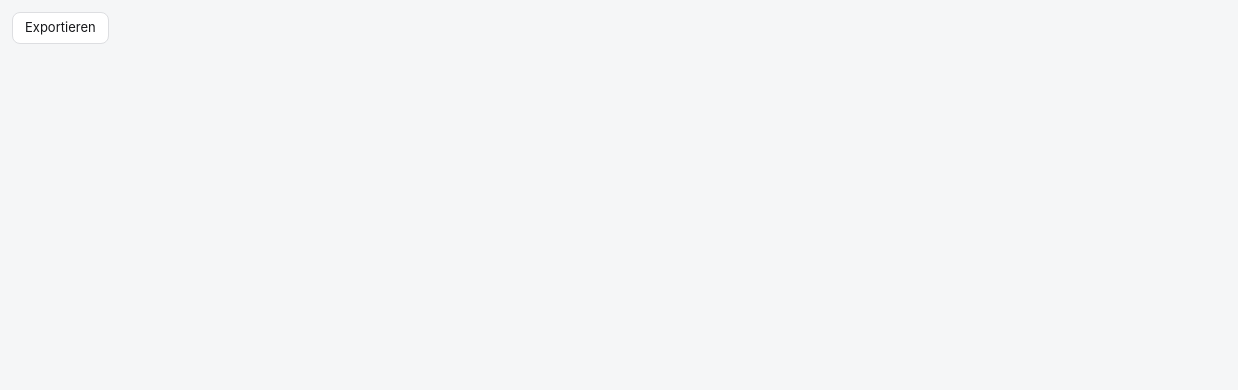
it: ReportExportMenu › Vertragsverletzung im JSON-Export ist ein Fehler, kein Download
Press ArrowDown in the button with test id "report-export-trigger", box [12, 12, 109, 44]
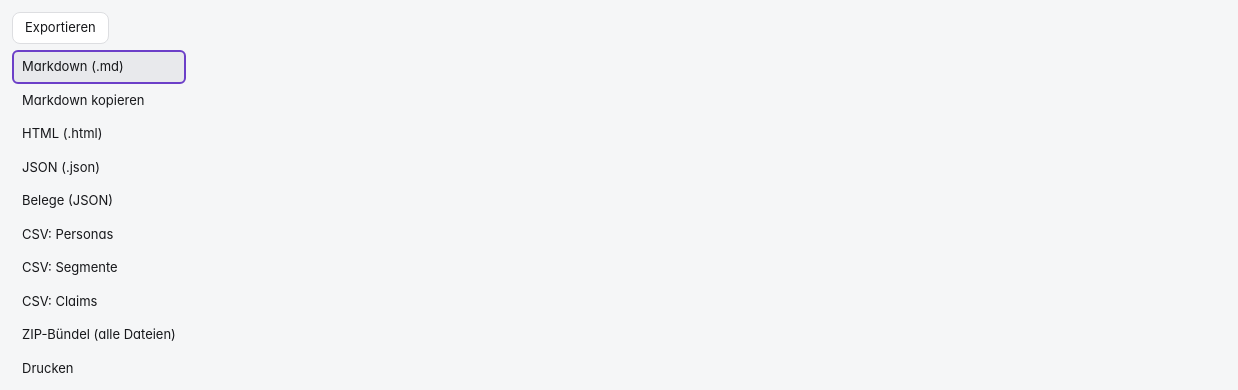
Click the menu item "JSON (.json)": [61, 166] box [22, 158, 100, 174]
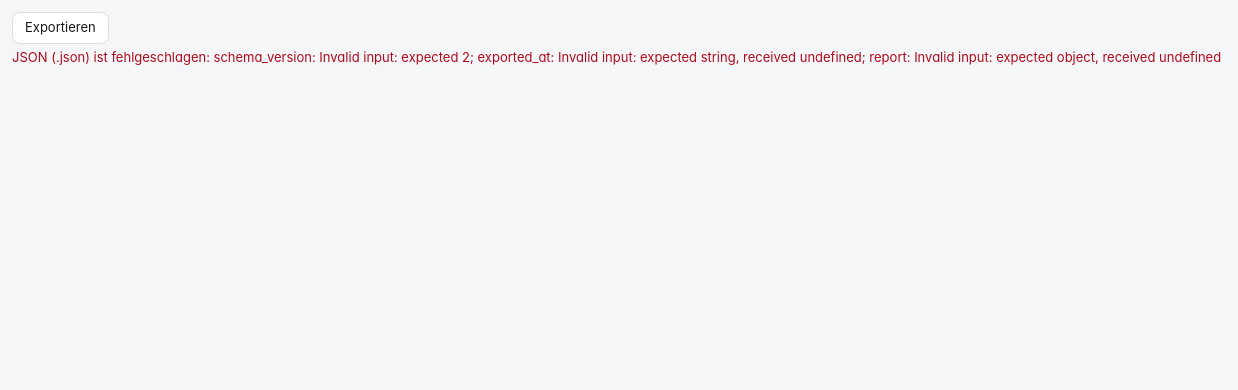
Check: the message with test id "report-export-problem" shows "fehlgeschlagen", box [12, 49, 1221, 65]
